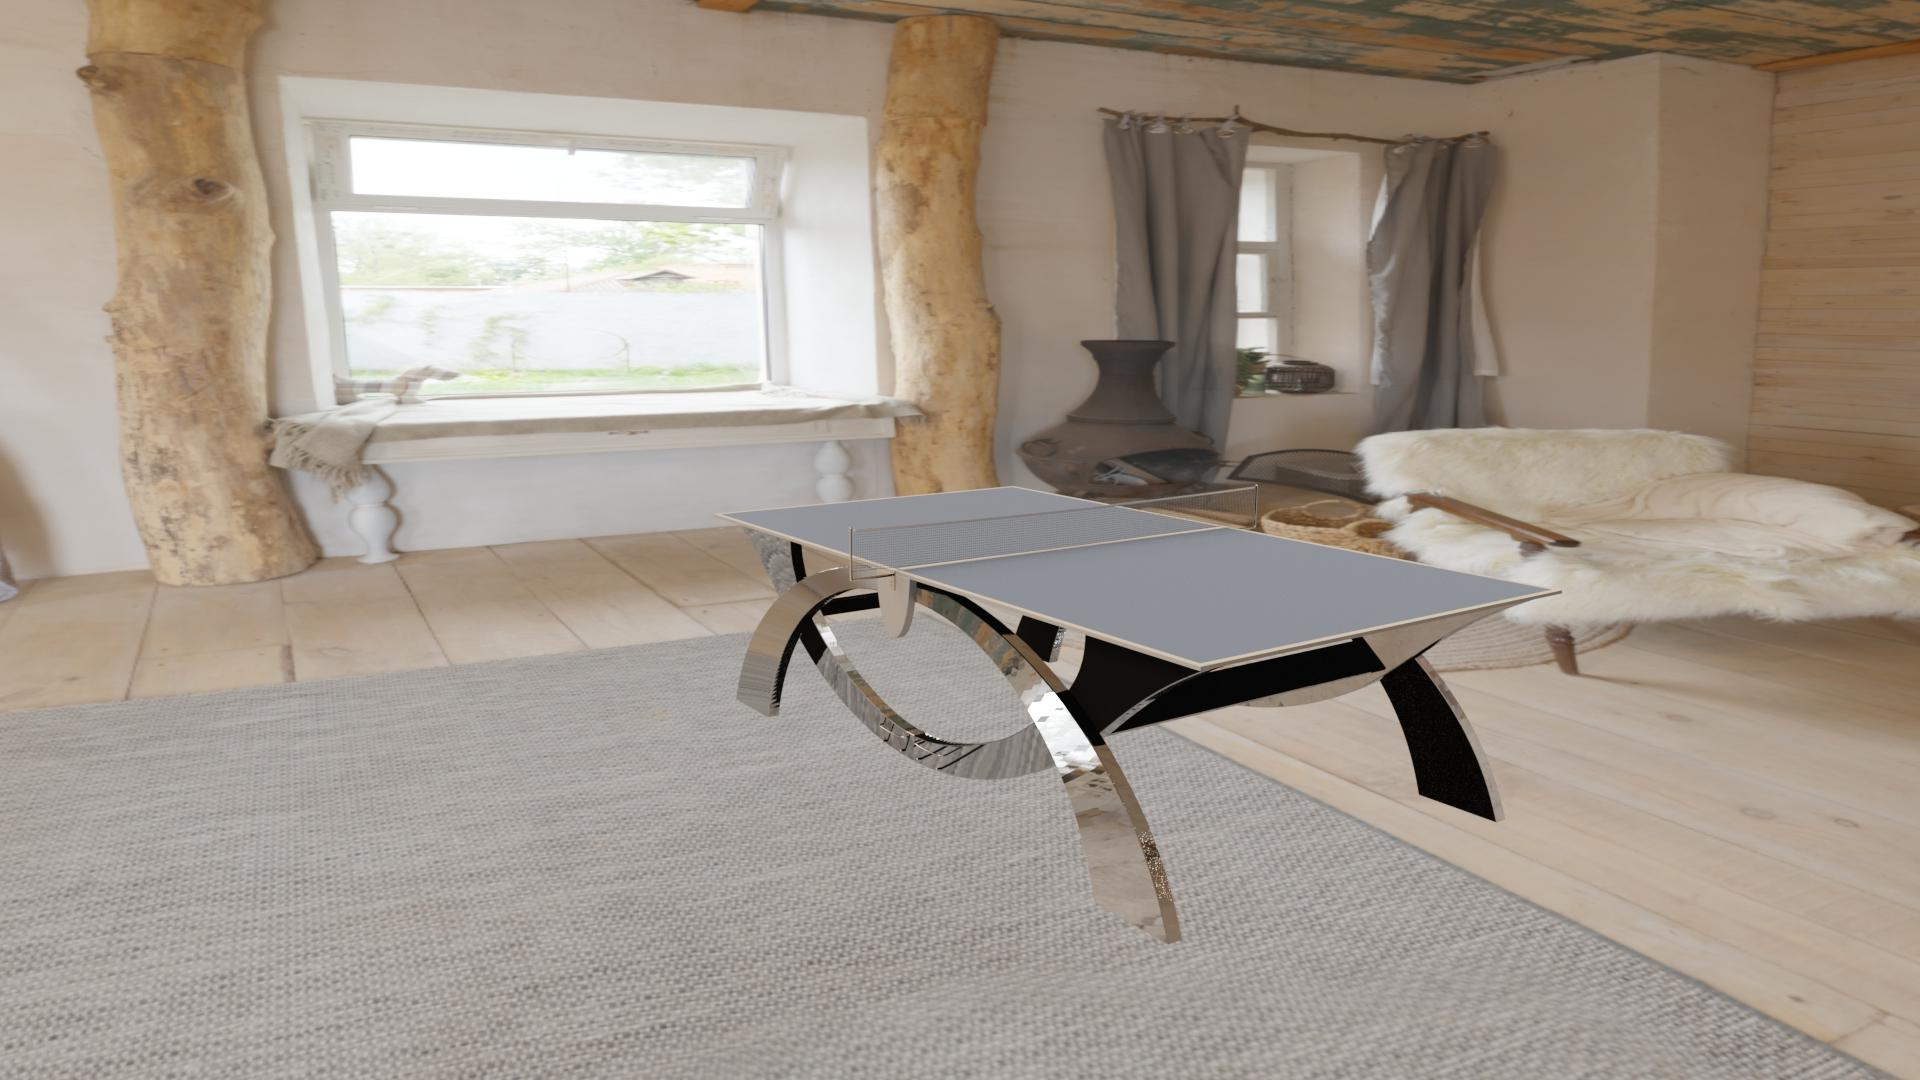table: (720, 487, 1552, 663)
